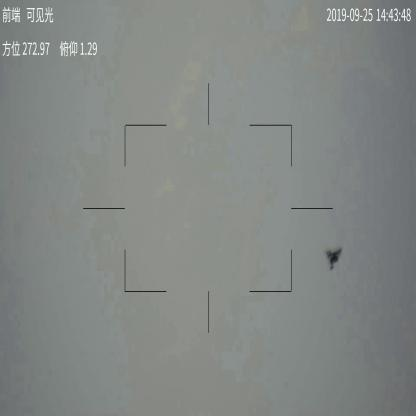uav: (325, 243, 345, 269)
